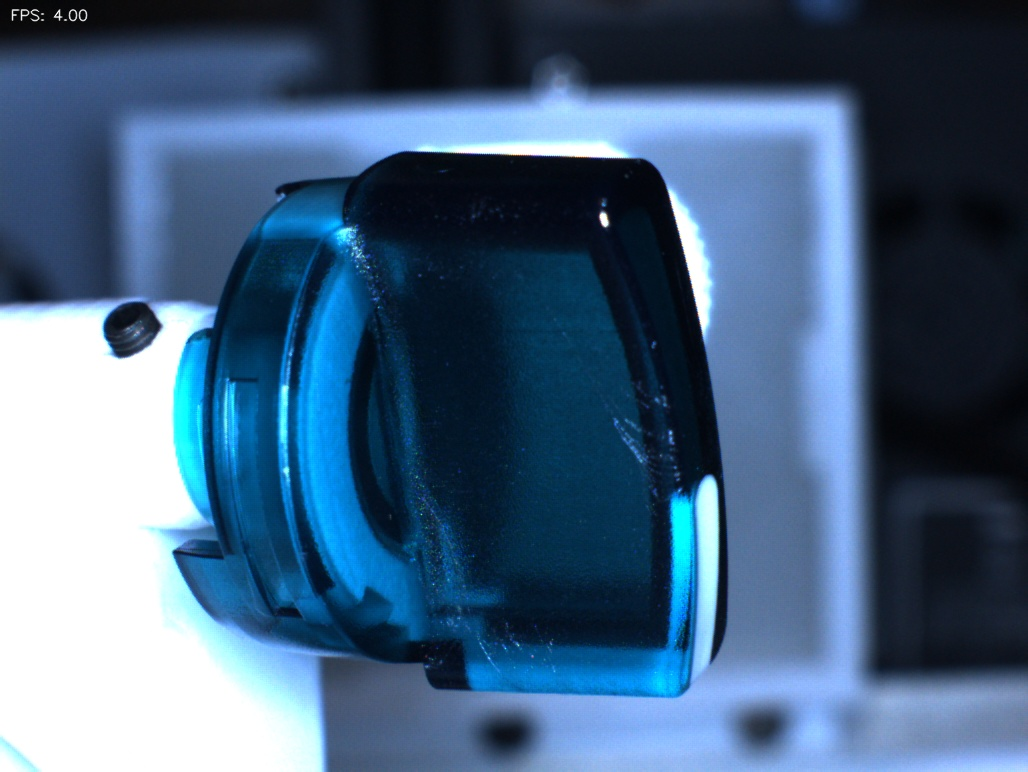Givrage: (472, 610, 564, 683)
